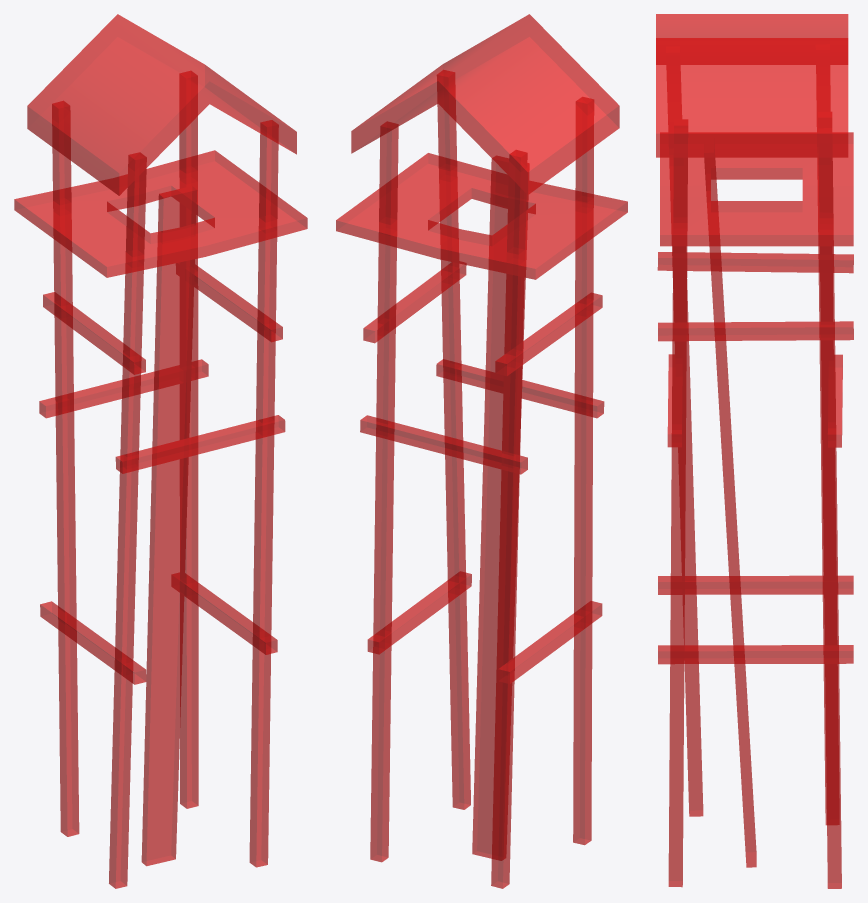
File: SM_Bld_Rickety_Tower_03_Collision.fbx
The picture shows the model from 3 angles, left to right: view 1: azimuth 30°, elevation 25°; view 2: azimuth 150°, elevation 25°; view 3: azimuth 270°, elevation 25°; orthographic projection. The views are drawn at different scales.
Visible parts, largest first — view 1: SM_Bld_Rickety_Tower_03_Collision; view 2: SM_Bld_Rickety_Tower_03_Collision; view 3: SM_Bld_Rickety_Tower_03_Collision.
Boxes of the visible parts, box(x1,y1,x2,y2) form: SM_Bld_Rickety_Tower_03_Collision: box(14, 14, 307, 888); SM_Bld_Rickety_Tower_03_Collision: box(336, 14, 627, 888); SM_Bld_Rickety_Tower_03_Collision: box(656, 14, 853, 888).
Size of the model in its own units: 364 by 1407 by 297.
